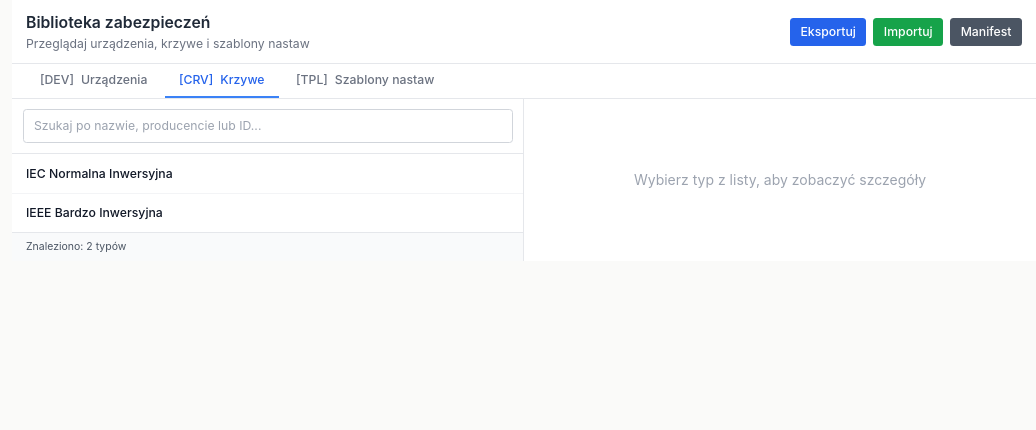
Test: ProtectionLibraryBrowser › displays curve parameters correctly
This screenshot has width=1036, height=430.
Expected: the text "IEC Normalna Inwersyjna" is shown, [26,166,173,180]
What coordinates should you click on to do the following:
click the button "IEC Normalna Inwersyjna"
I would click on:
 (99, 173)
Its box is [12,154,523,192].
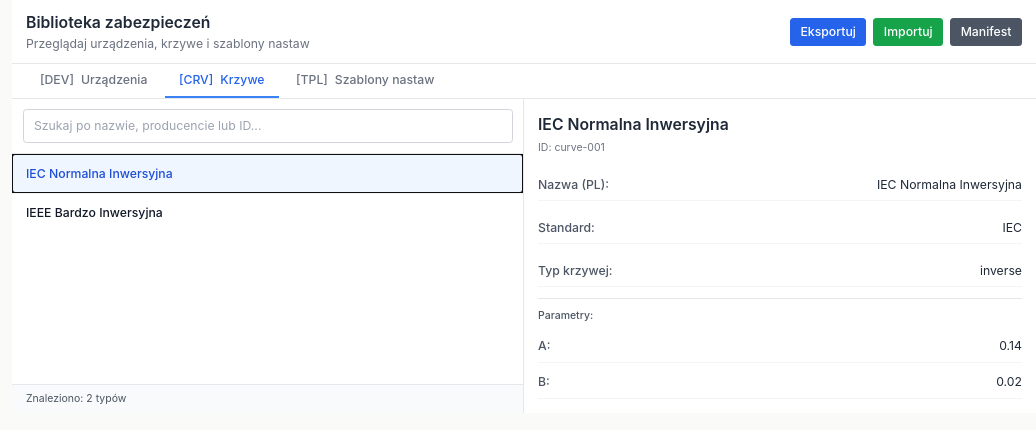
Expected: the text "Standard:" is shown, [538,218,595,236]
Expected: the text "IEC" is shown, [1002,218,1022,236]
Expected: the text "Typ krzywej:" is shown, [538,262,613,279]
